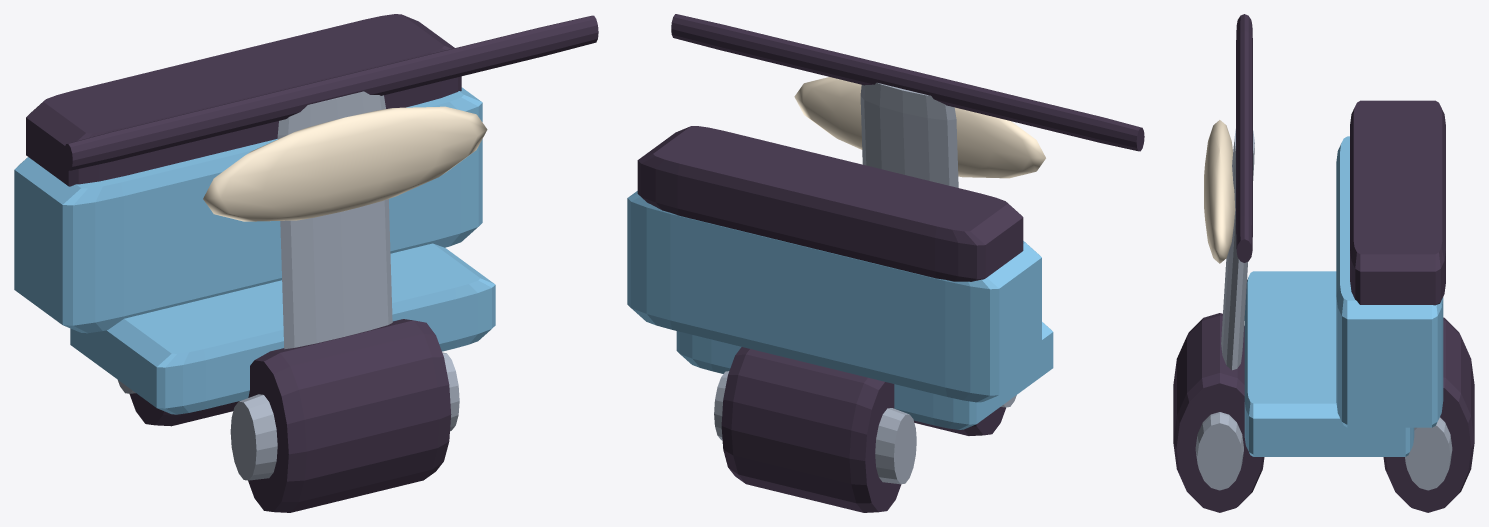
File: toy_scooter.glb
3 views of the same model, side by side, from view 1: azimuth 30°, elevation 25°; view 2: azimuth 150°, elevation 25°; view 3: azimuth 270°, elevation 25° (orthographic). The views are drawn at different scales.
Visible parts, largest first — view 1: model, tire, hub; view 2: model, tire, hub; view 3: model, tire, hub.
Boxes of the visible parts, bbox=[...] form: model: bbox=[14, 14, 598, 414]; tire: bbox=[129, 319, 451, 512]; hub: bbox=[118, 352, 459, 480]; model: bbox=[627, 14, 1144, 429]; tire: bbox=[721, 347, 1005, 512]; hub: bbox=[714, 371, 1016, 484]; model: bbox=[1204, 14, 1445, 456]; tire: bbox=[1173, 313, 1474, 512]; hub: bbox=[1195, 412, 1452, 490].
Size of the model in its own units: 1.15 by 0.85 by 0.65.
